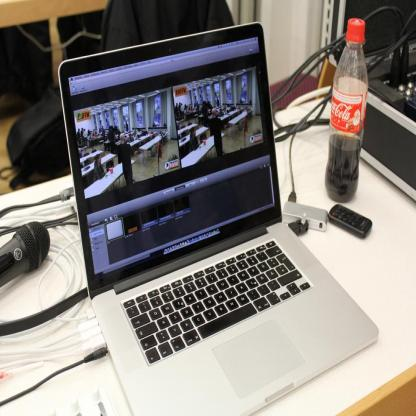board: (57, 24, 379, 415), (326, 17, 368, 202)
